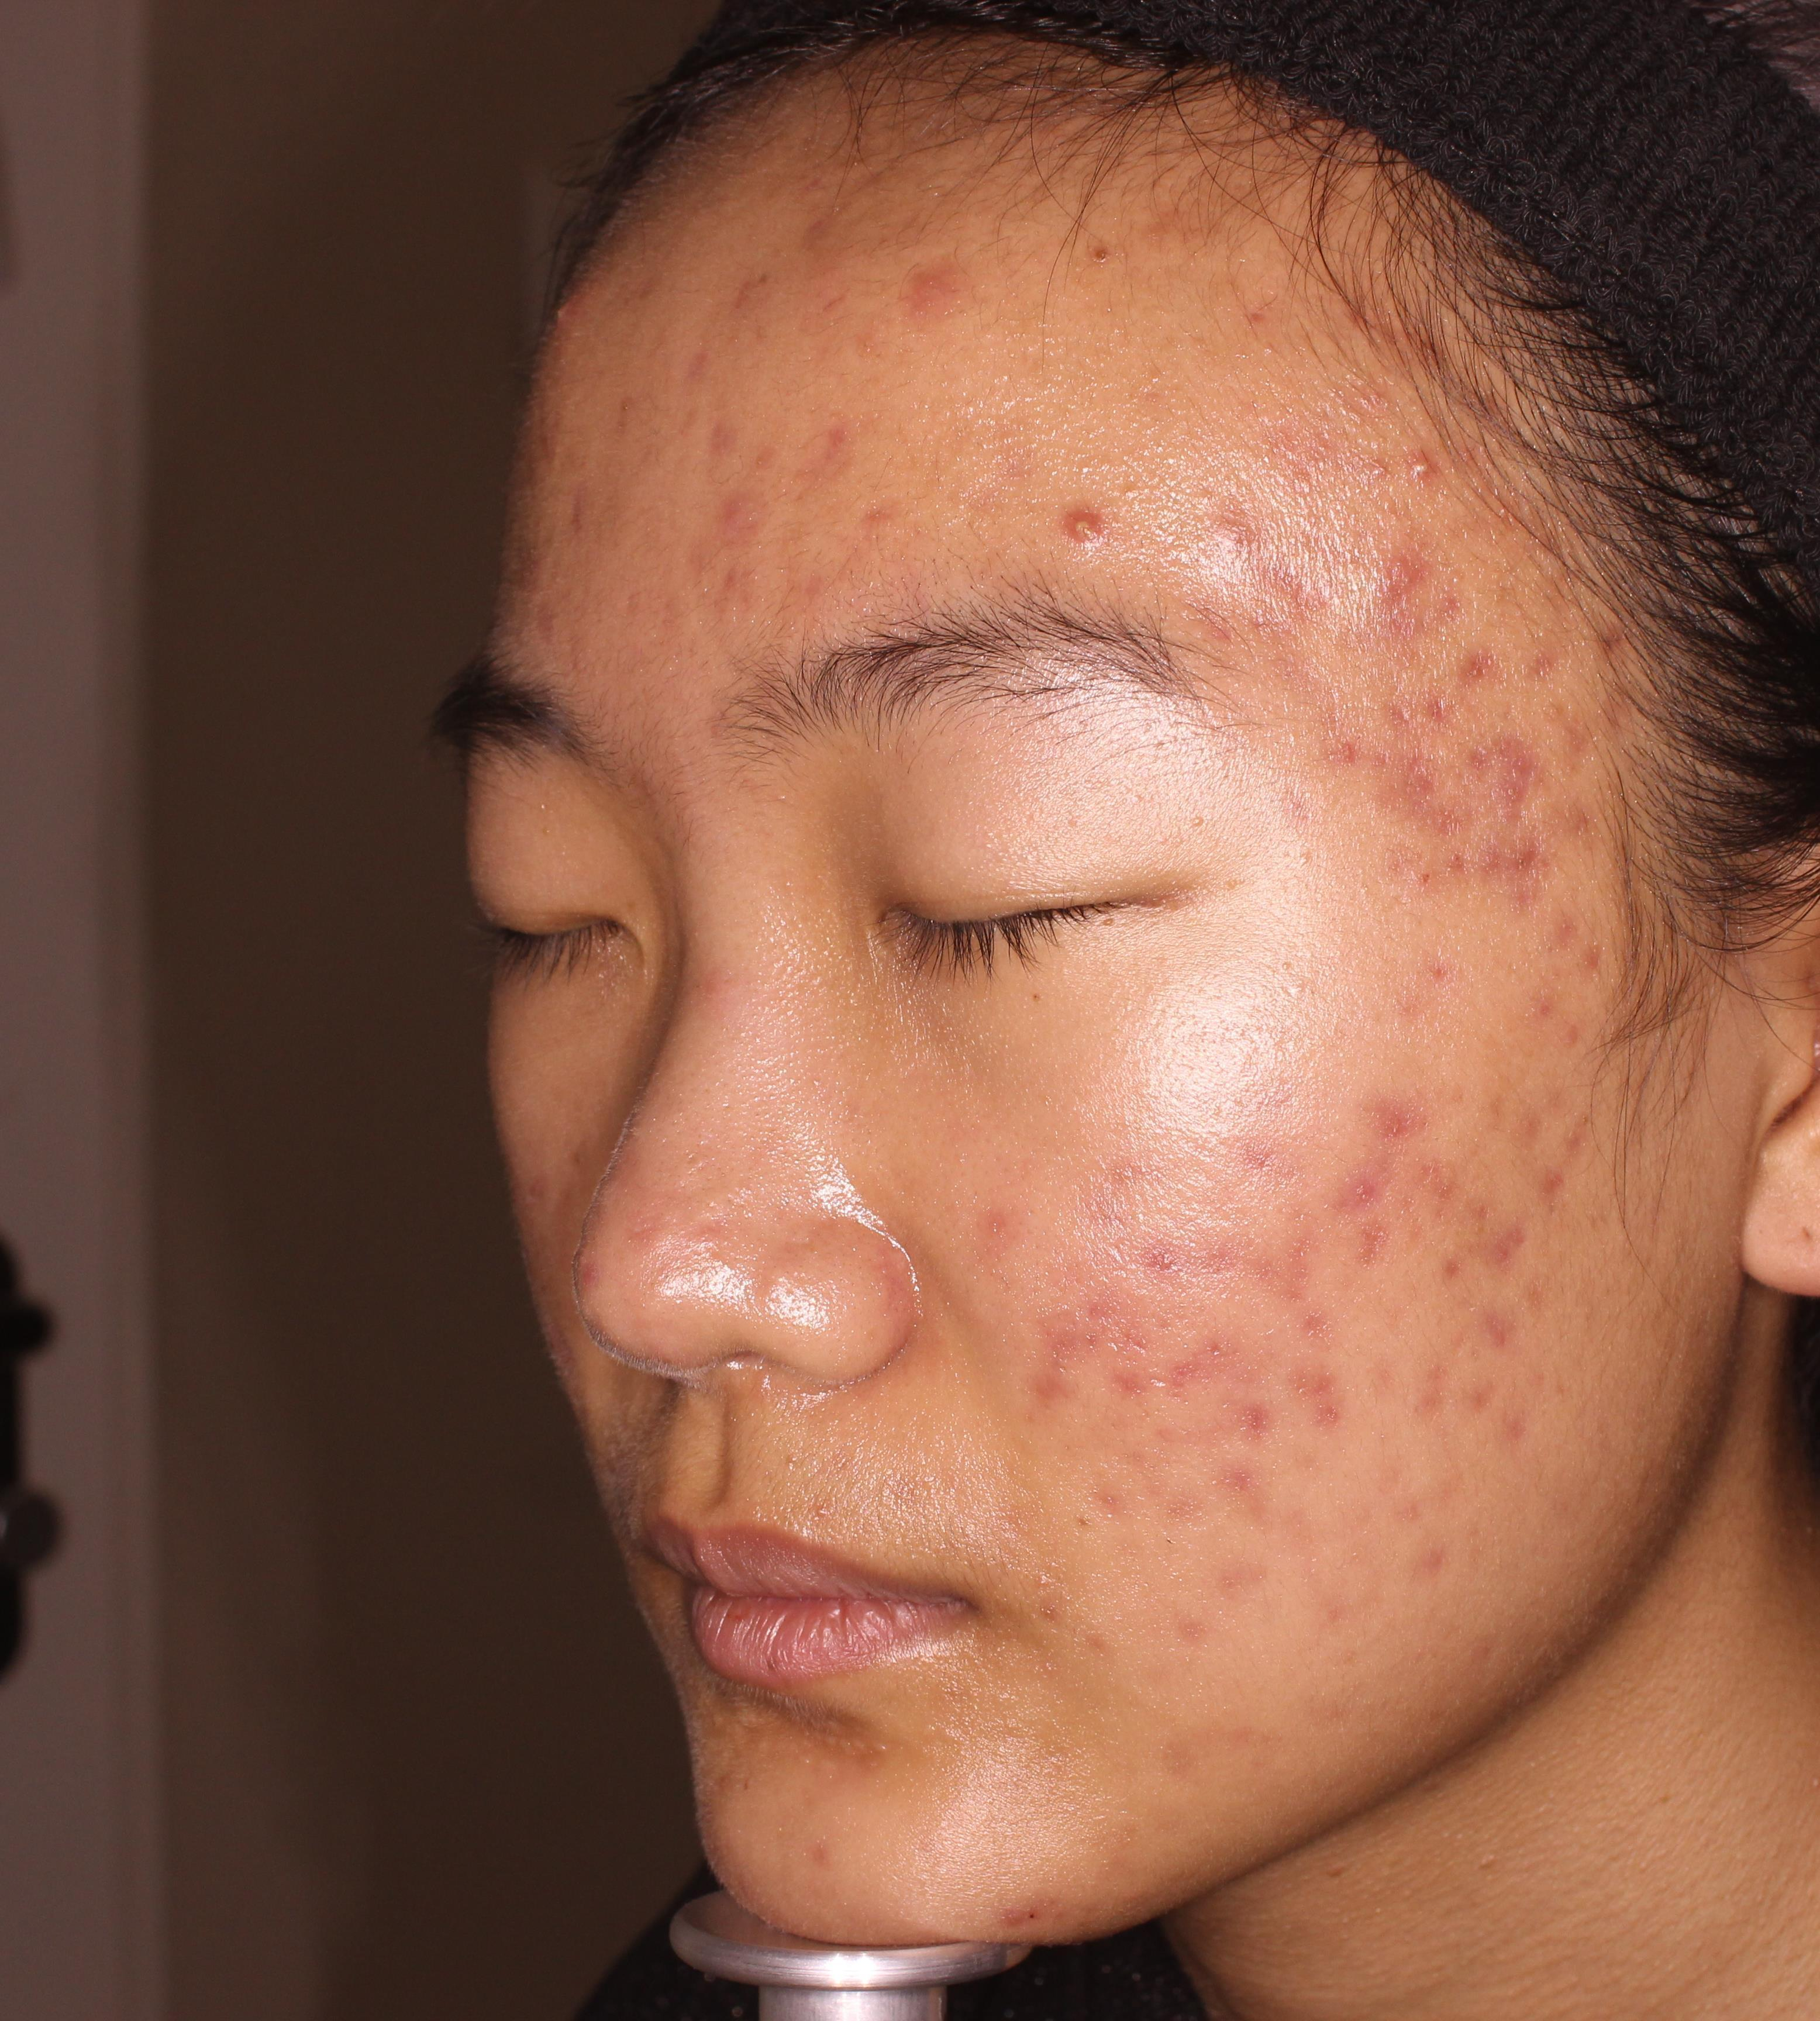fore: (849, 214, 1010, 356), (1521, 962, 1618, 1115), (1314, 1083, 1421, 1182), (1031, 1289, 1112, 1415), (1462, 815, 1571, 908), (1279, 1343, 1377, 1433), (1216, 1447, 1314, 1536), (1381, 729, 1467, 827), (1441, 1298, 1539, 1384), (1332, 1168, 1412, 1266), (1224, 1343, 1296, 1450), (1117, 1320, 1207, 1406), (1453, 1196, 1539, 1277), (710, 478, 785, 564), (1332, 544, 1430, 608), (1458, 720, 1534, 797), (768, 209, 849, 281), (1534, 908, 1618, 957), (1386, 435, 1451, 493), (1441, 644, 1525, 688), (1054, 509, 1117, 564)
